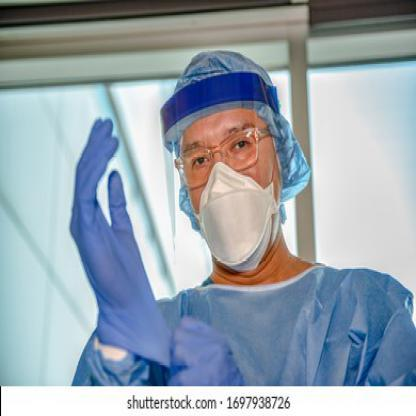Gloves: (69, 116, 170, 368), (170, 316, 245, 384)
